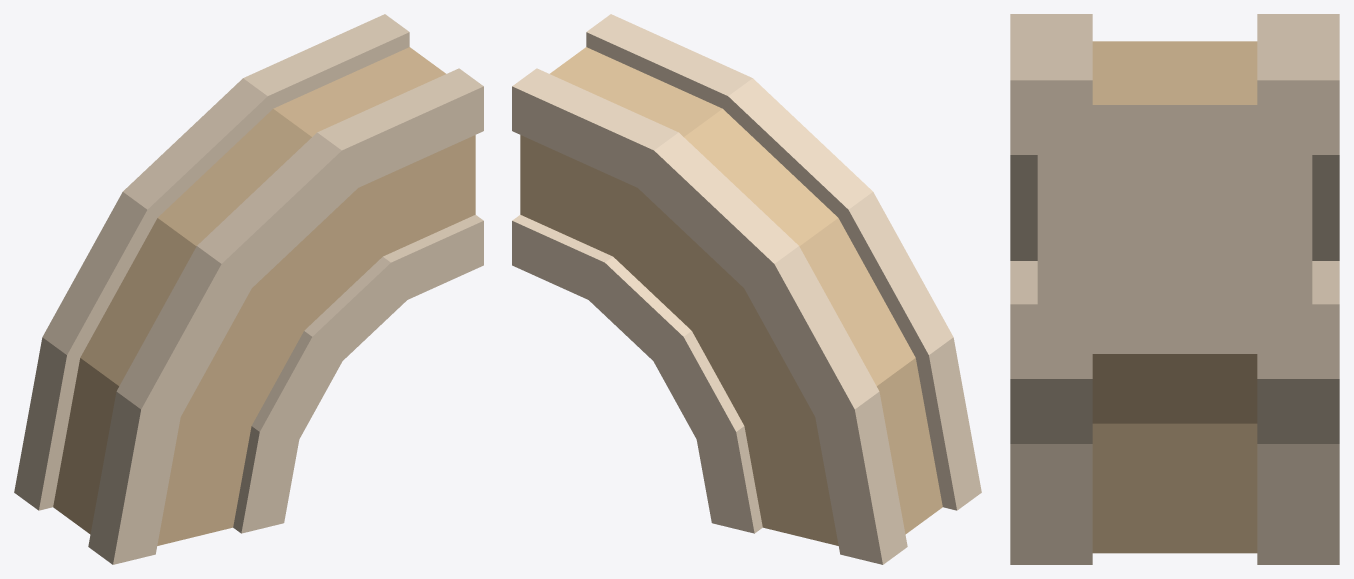
File: pillar_large_arch.glb
3 renders of one model, left to right at view 1: azimuth 30°, elevation 25°; view 2: azimuth 150°, elevation 25°; view 3: azimuth 270°, elevation 25°, orthographic. The views are drawn at different scales.
Visible parts, largest first — view 1: object1; view 2: object1; view 3: object1.
Boxes of the visible parts, x1,y1,x2,y2 form: object1: (14, 14, 483, 564); object1: (512, 14, 981, 564); object1: (1010, 14, 1339, 564).
Bounding box in the file's own units: 1.3 × 1.3 × 0.6.
